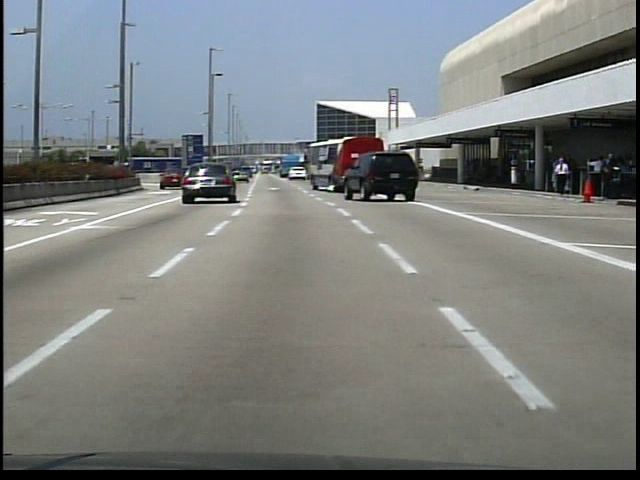person: (551, 157, 572, 199)
